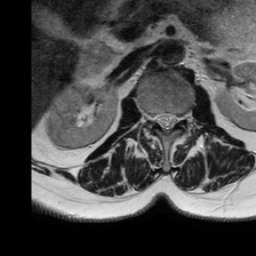CCS_normal: (162, 107, 169, 138)
LFS_severe_stenosis: (178, 109, 184, 127)
LLS_normal: (170, 109, 177, 132)
RFS_stenosis: (147, 108, 157, 127)
RLS_normal: (155, 108, 163, 131)
